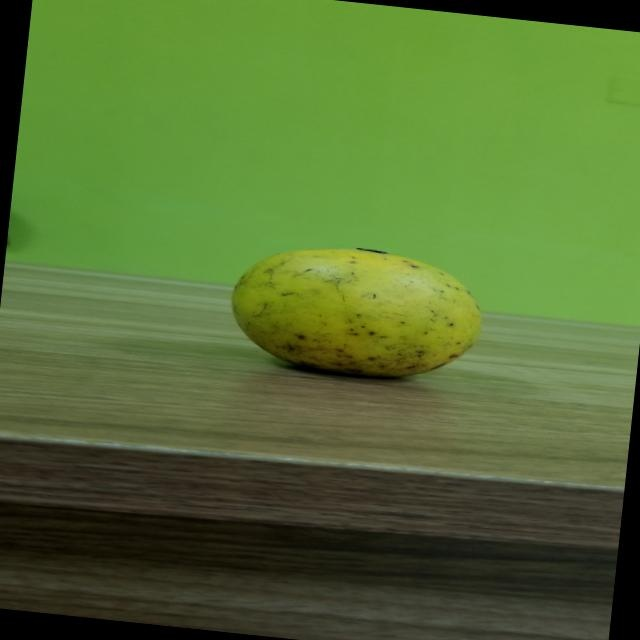agrume: (204, 219, 512, 400)
